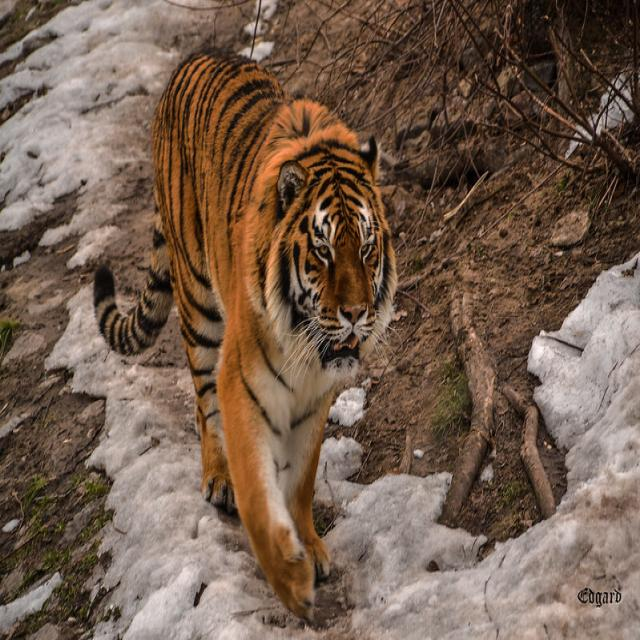Tiger: (93, 47, 394, 616)
